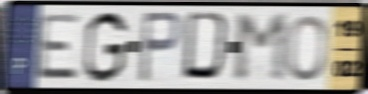D: (180, 10, 235, 85)
E: (34, 12, 82, 82)
G: (82, 9, 130, 85)
M: (233, 11, 290, 84)
O: (285, 13, 330, 83)
P: (136, 10, 184, 85)
